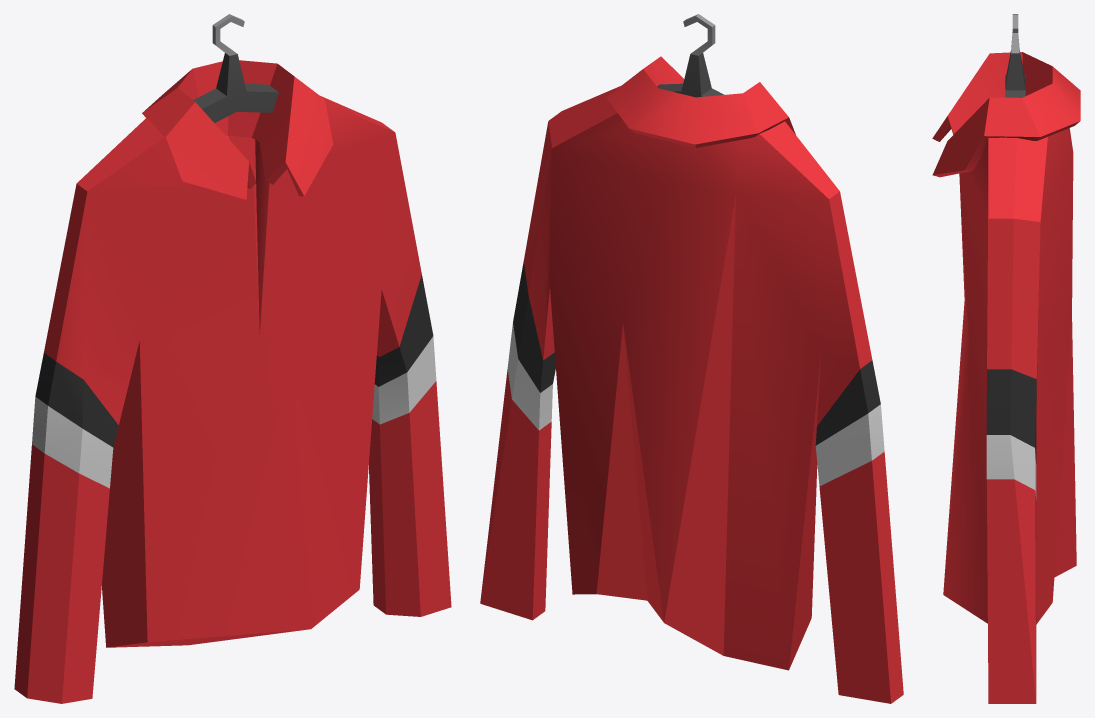
The model's file is Ropa01.fbx.
3 views of the same model, side by side, from view 1: azimuth 30°, elevation 25°; view 2: azimuth 150°, elevation 25°; view 3: azimuth 270°, elevation 25° (orthographic). The views are drawn at different scales.
Visible parts, largest first — view 1: Ropa01; view 2: Ropa01; view 3: Ropa01.
Boxes of the visible parts, left/top/right/bottom form: Ropa01: left=14, top=14, right=451, bottom=703; Ropa01: left=480, top=14, right=903, bottom=703; Ropa01: left=932, top=14, right=1080, bottom=703.
Bounding box in the file's own units: 44.9 × 66.26 × 14.92.
